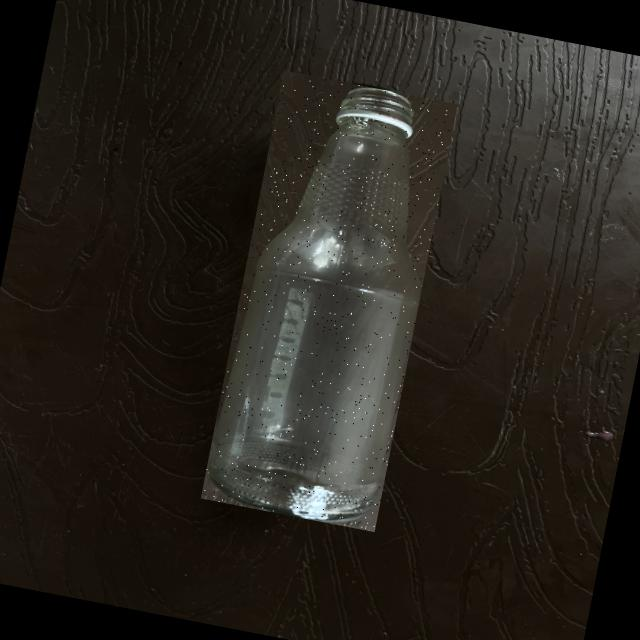Glass_Bottle: (209, 88, 420, 521)
